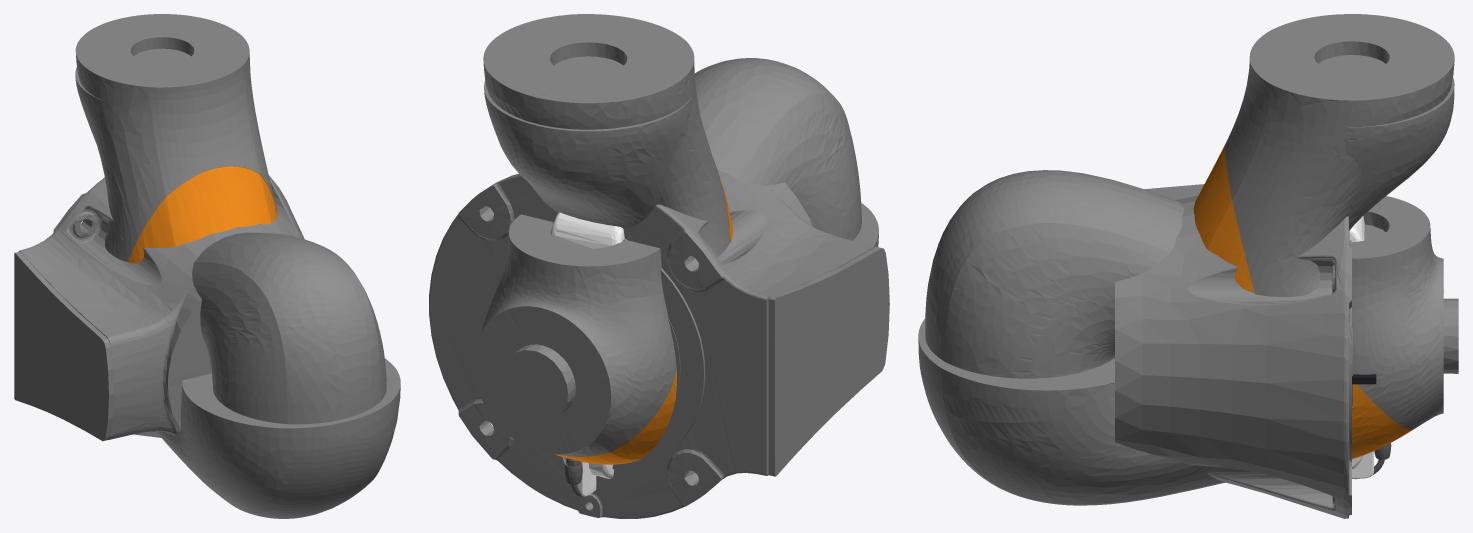
Rendered from arm.glb.
The picture shows the model from 3 angles, left to right: view 1: azimuth 30°, elevation 25°; view 2: azimuth 150°, elevation 25°; view 3: azimuth 270°, elevation 25°; orthographic projection. The views are drawn at different scales.
Parts seen in each view (by area): view 1: b3, b1, b4, b2, b5; view 2: b1, b7, b3, b4, b5, b2, b9; view 3: b1, b3, b4, b2, b7, b5, b9.
Part boxes in pixels (x1=…): b3: x1=75, y1=14, x2=277, y2=263; b1: x1=14, y1=175, x2=304, y2=441; b4: x1=192, y1=232, x2=386, y2=424; b2: x1=155, y1=358, x2=400, y2=518; b5: x1=75, y1=67, x2=107, y2=143; b1: x1=429, y1=170, x2=889, y2=518; b7: x1=473, y1=214, x2=676, y2=464; b3: x1=474, y1=14, x2=732, y2=468; b4: x1=695, y1=58, x2=861, y2=240; b5: x1=484, y1=80, x2=693, y2=395; b2: x1=474, y1=203, x2=878, y2=469; b9: x1=551, y1=212, x2=624, y2=496; b1: x1=1115, y1=184, x2=1351, y2=518; b3: x1=1193, y1=14, x2=1454, y2=462; b4: x1=925, y1=170, x2=1183, y2=378; b2: x1=918, y1=318, x2=1225, y2=505; b7: x1=1349, y1=196, x2=1458, y2=458; b5: x1=1342, y1=77, x2=1454, y2=405; b9: x1=1349, y1=216, x2=1391, y2=479.
Size of the model in its own units: 0.2573 by 0.3259 by 0.3587.
